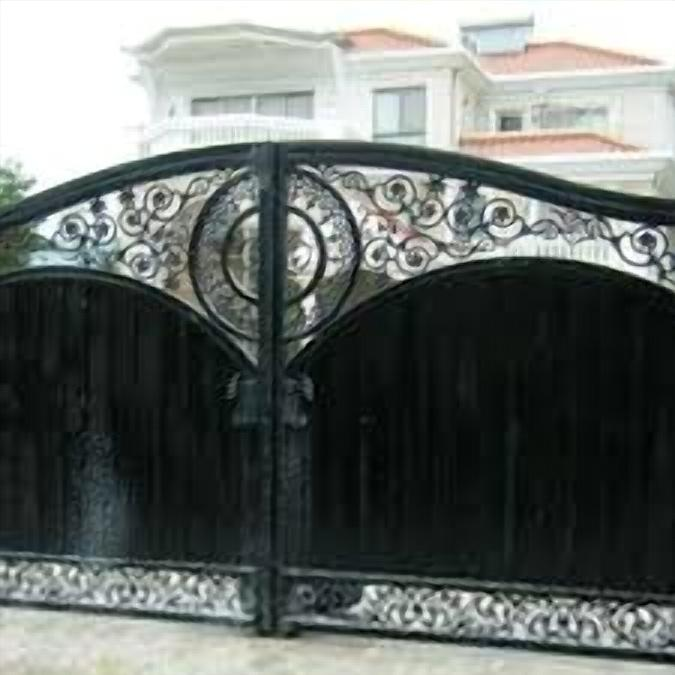Building: (118, 13, 675, 402)
Gate: (0, 138, 675, 660)
Window-without-grill: (186, 92, 313, 132), (371, 84, 428, 140)
